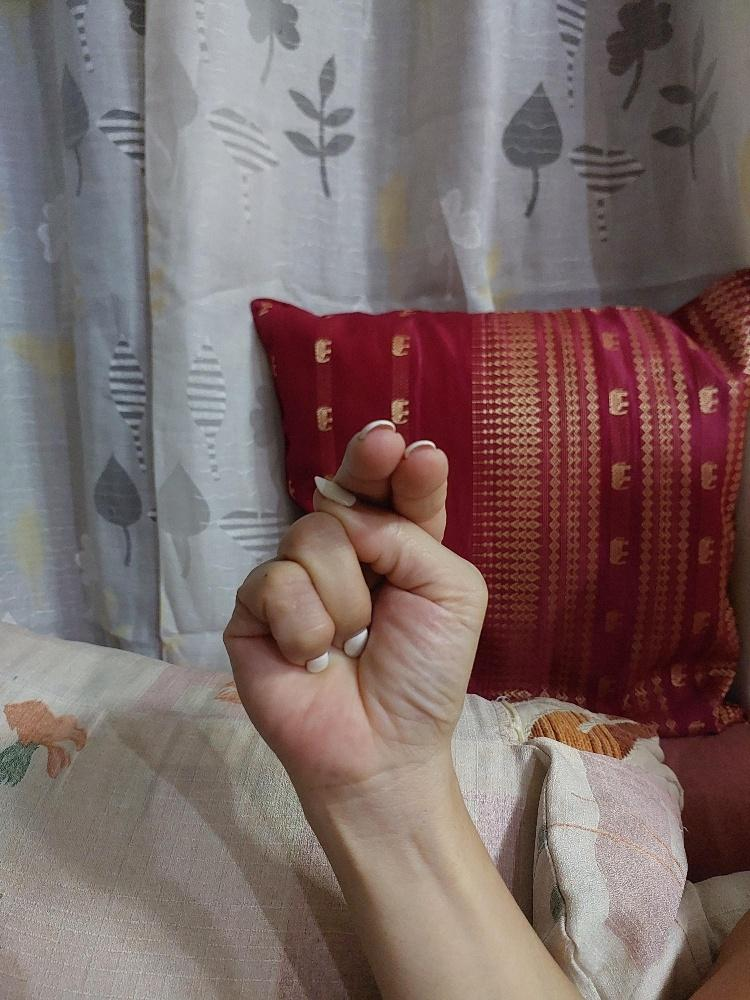n: (216, 414, 493, 780)
